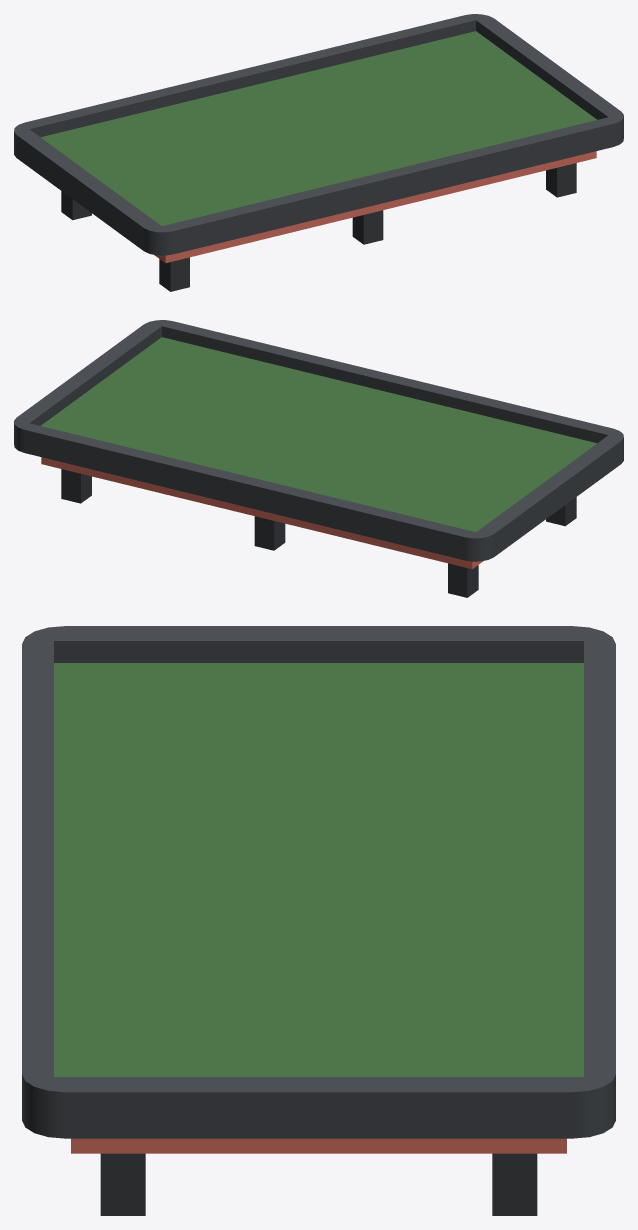
File: SM_GameArea_RecreationalMachines_08.fbx
The picture shows the model from 3 angles, top to bottom: view 1: azimuth 30°, elevation 25°; view 2: azimuth 150°, elevation 25°; view 3: azimuth 270°, elevation 25°; orthographic projection. The views are drawn at different scales.
Parts seen in each view (by area): view 1: SM_GameArea_RecreationalMachines_08; view 2: SM_GameArea_RecreationalMachines_08; view 3: SM_GameArea_RecreationalMachines_08.
Boxes of the visible parts, <box> form: SM_GameArea_RecreationalMachines_08: <box>14,14,623,291</box>; SM_GameArea_RecreationalMachines_08: <box>14,320,623,597</box>; SM_GameArea_RecreationalMachines_08: <box>22,626,615,1215</box>.
Size of the model in its own units: 17.34 by 2.75 by 9.34.
1 material, 1 textured.
